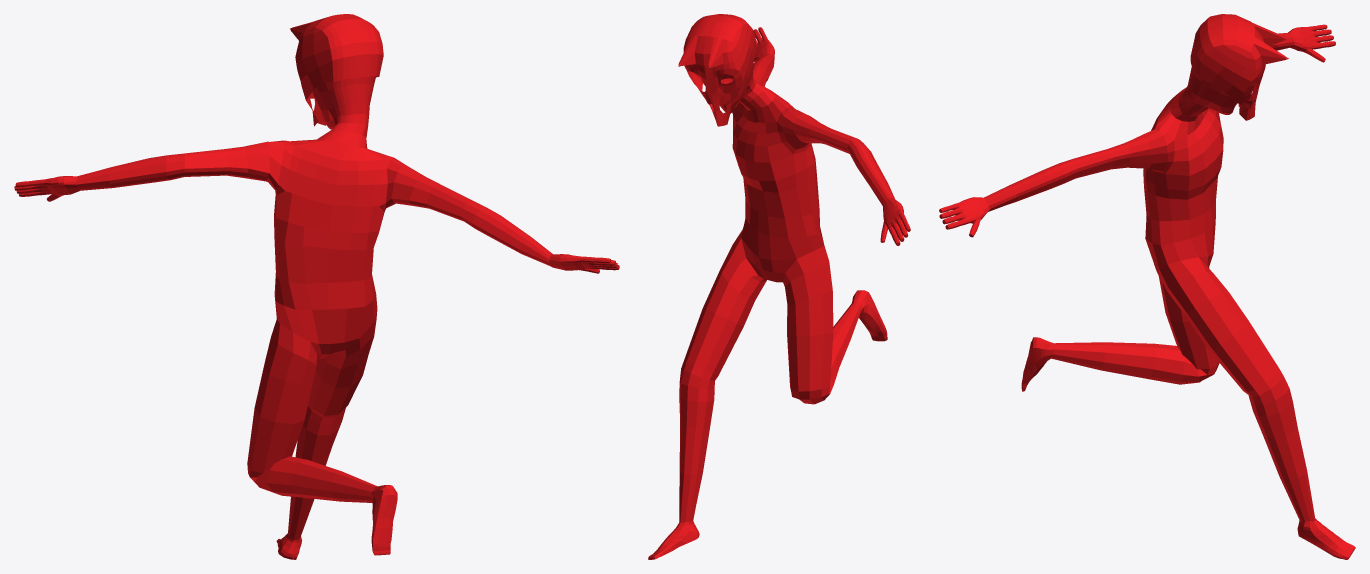
The model's file is saltoadelanteE_000121.obj.
3 views of the same model, side by side, from view 1: azimuth 30°, elevation 25°; view 2: azimuth 150°, elevation 25°; view 3: azimuth 270°, elevation 25° (orthographic). The views are drawn at different scales.
Parts seen in each view (by area): view 1: Plane.002_Plane.001; view 2: Plane.002_Plane.001; view 3: Plane.002_Plane.001.
Part boxes in pixels (x1=…): Plane.002_Plane.001: x1=14, y1=14, x2=619, y2=559; Plane.002_Plane.001: x1=648, y1=14, x2=910, y2=559; Plane.002_Plane.001: x1=939, y1=14, x2=1355, y2=559.
Size of the model in its own units: 4.76 by 6.67 by 4.73.
